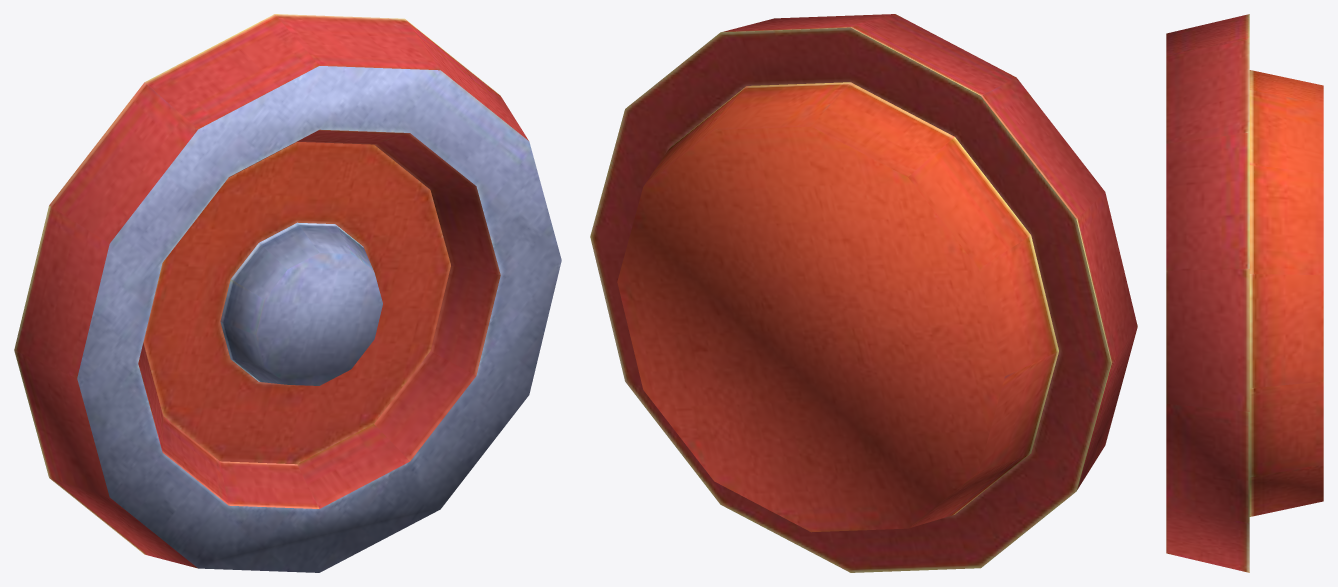
The model's file is armor_100.glb.
3 renders of one model, left to right at view 1: azimuth 30°, elevation 25°; view 2: azimuth 150°, elevation 25°; view 3: azimuth 270°, elevation 25°, orthographic. The views are drawn at different scales.
Parts seen in each view (by area): view 1: armor_100; view 2: armor_100; view 3: armor_100.
Boxes of the visible parts, x1,y1,x2,y2 form: armor_100: (14, 14, 561, 572); armor_100: (590, 14, 1137, 572); armor_100: (1166, 14, 1323, 572).
Bounding box in the file's own units: 0.5676 × 0.5676 × 0.1592.
Materials: 1 (1 with a texture image).
